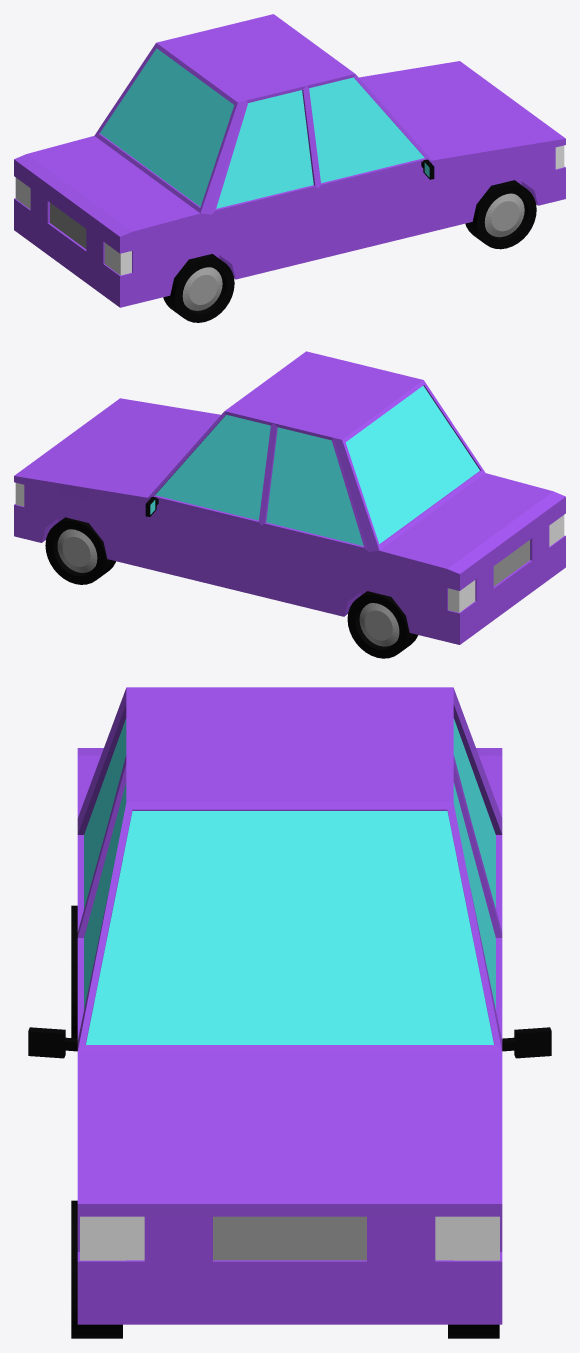
The model's file is Car3.fbx.
3 views of the same model, one above another, from view 1: azimuth 30°, elevation 25°; view 2: azimuth 150°, elevation 25°; view 3: azimuth 270°, elevation 25° (orthographic). The views are drawn at different scales.
Parts seen in each view (by area): view 1: Car3; view 2: Car3; view 3: Car3.
Boxes of the visible parts, <box> form: Car3: <box>14,14,565,322</box>; Car3: <box>14,351,565,658</box>; Car3: <box>28,687,551,1338</box>.
Size of the model in its own units: 485 by 206 by 247.
